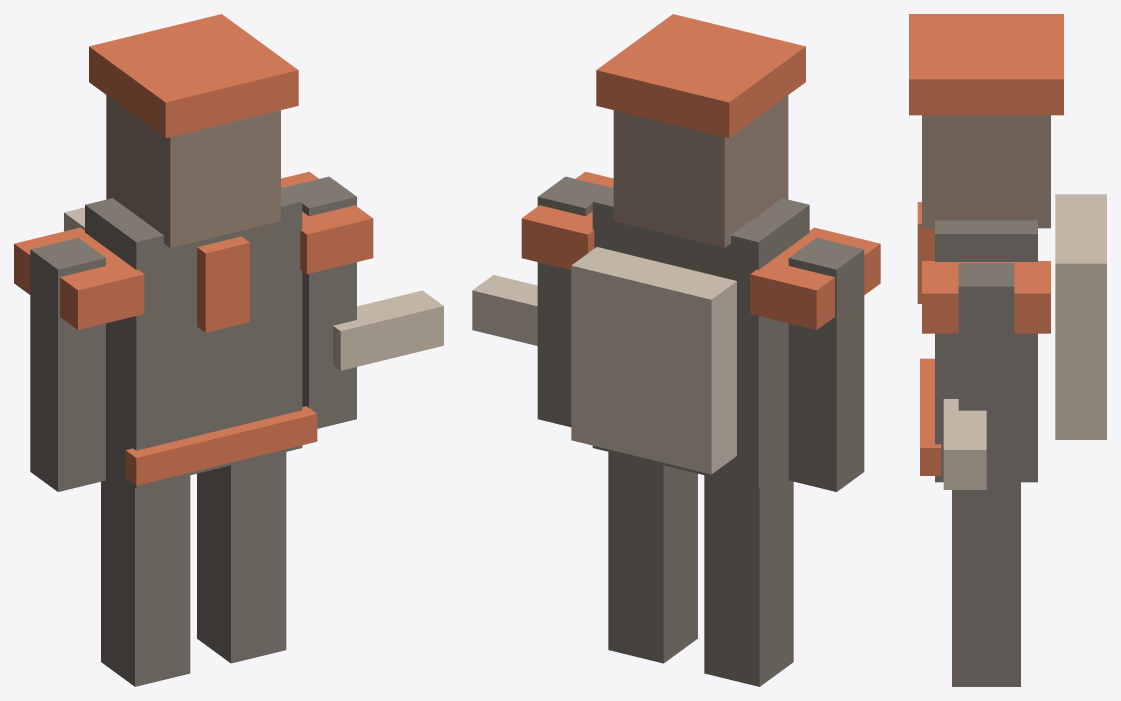
The model's file is 06_rook_runeclasp_broker_near_scholar.glb.
3 renders of one model, left to right at view 1: azimuth 30°, elevation 25°; view 2: azimuth 150°, elevation 25°; view 3: azimuth 270°, elevation 25°, orthographic.
Parts seen in each view (by area): view 1: Rook Runeclasp, Broker near Scholar; view 2: Rook Runeclasp, Broker near Scholar; view 3: Rook Runeclasp, Broker near Scholar.
Boxes of the visible parts, x1,y1,x2,y2 form: Rook Runeclasp, Broker near Scholar: (14, 14, 443, 686); Rook Runeclasp, Broker near Scholar: (472, 14, 880, 686); Rook Runeclasp, Broker near Scholar: (909, 14, 1106, 686).
Size of the model in its own units: 1.1 by 1.66 by 0.494.
